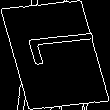L_E: (10, 35, 100, 75)
